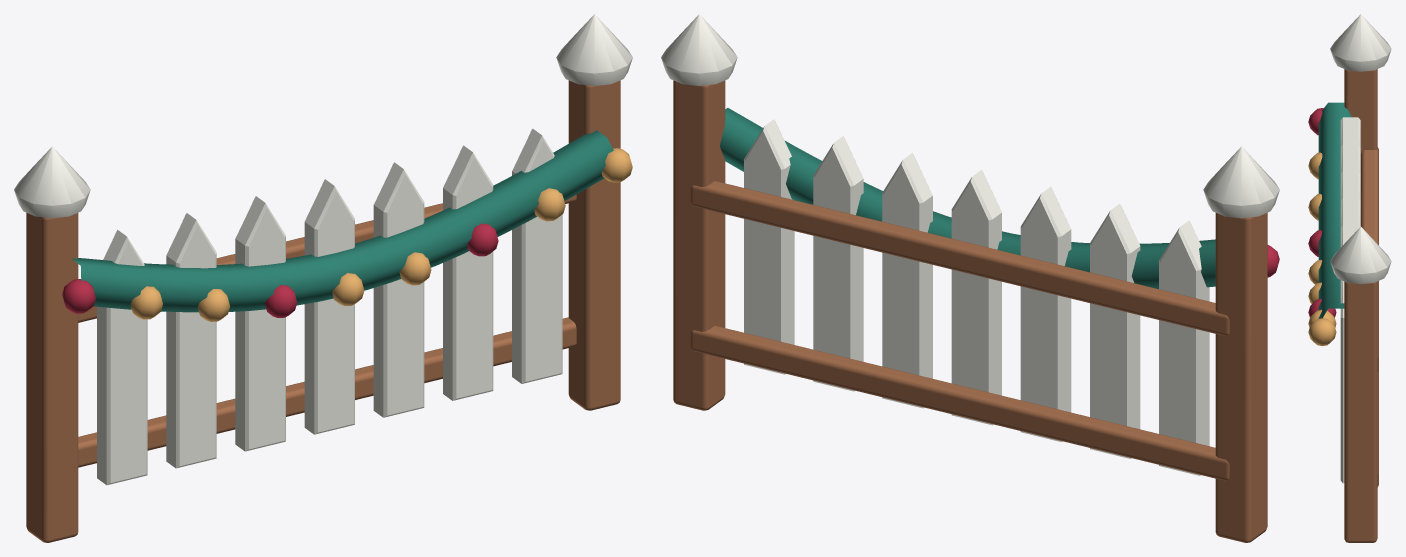
The model's file is storybook-christmas-market-garland-picket-fence-ce9b8224__19699.glb.
3 views of the same model, side by side, from view 1: azimuth 30°, elevation 25°; view 2: azimuth 150°, elevation 25°; view 3: azimuth 270°, elevation 25° (orthographic). The views are drawn at different scales.
Visible parts, largest first — view 1: garland-picket-fence; view 2: garland-picket-fence; view 3: garland-picket-fence.
Part boxes in pixels (<box>): garland-picket-fence: <box>14,14,632,542</box>; garland-picket-fence: <box>661,14,1279,542</box>; garland-picket-fence: <box>1308,14,1391,542</box>.
Bounding box in the file's own units: 2.2 × 1.34 × 0.3251.
